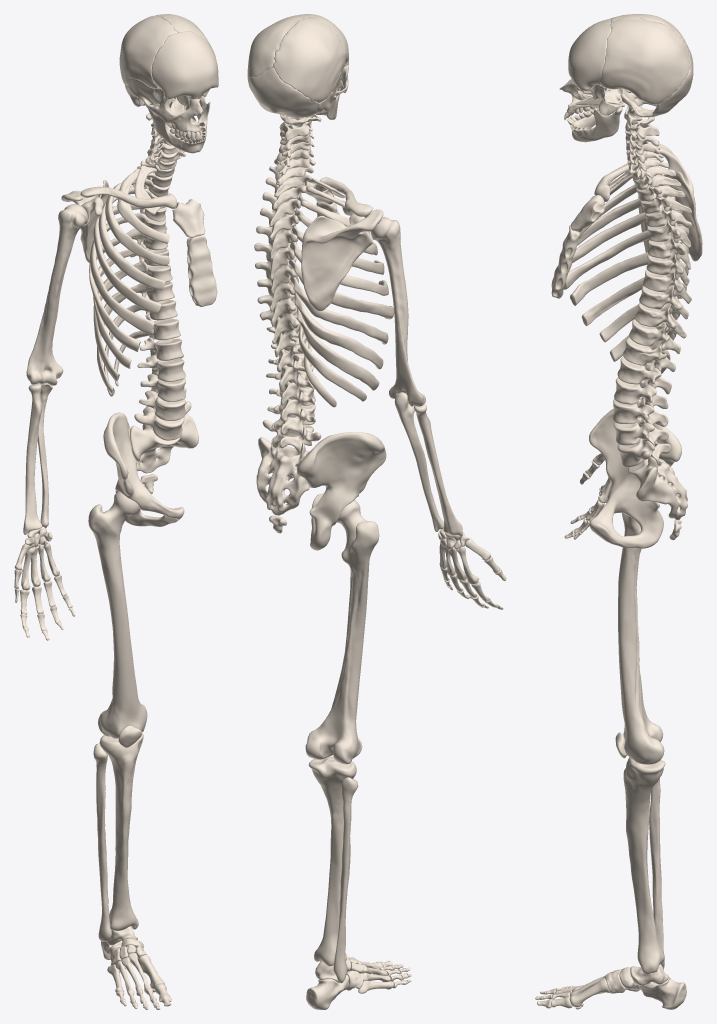
The model's file is aligned-overview-skeleton-skeletal-01.glb.
3 views of the same model, side by side, from view 1: azimuth 30°, elevation 25°; view 2: azimuth 150°, elevation 25°; view 3: azimuth 270°, elevation 25° (orthographic). The views are drawn at different scales.
Visible parts, largest first — view 1: O3D_05ffaf48937967, O3D_cbe1e286dd60a5, O3D_03496e367dfd52, O3D_51d578370516da, O3D_0432208a152acf, O3D_d66302d3a3b732, O3D_5f8fe434da9608, O3D_4bcfe480dc5d8f, O3D_d711e4637ff760, O3D_0c3cd158a448ab, O3D_84d581d0704dc3, O3D_8e3a0b2cf52b6d (+22 smaller); view 2: O3D_05ffaf48937967, O3D_0432208a152acf, O3D_0b76a292ebe35b, O3D_d66302d3a3b732, O3D_cbe1e286dd60a5, O3D_51d578370516da, O3D_5f8fe434da9608, O3D_a9d6b1ae6c89a4, O3D_4bcfe480dc5d8f, O3D_f348809013aab8, O3D_aadce953e665bf, O3D_0c3cd158a448ab (+15 smaller); view 3: O3D_f348809013aab8, O3D_05ffaf48937967, O3D_0432208a152acf, O3D_cbe1e286dd60a5, O3D_5f8fe434da9608, O3D_03496e367dfd52, O3D_4bcfe480dc5d8f, O3D_0b76a292ebe35b, O3D_f9836cf019429e, O3D_a9d6b1ae6c89a4, O3D_1056282f5791ed, O3D_a194fbb98385e2 (+29 smaller).
Part boxes in pixels (x1,y1,x2,y2): O3D_05ffaf48937967: (88,491,147,738); O3D_cbe1e286dd60a5: (99,733,143,930); O3D_03496e367dfd52: (151,31,218,99); O3D_51d578370516da: (26,204,87,385); O3D_0432208a152acf: (103,412,184,526); O3D_d66302d3a3b732: (119,15,177,88); O3D_5f8fe434da9608: (130,413,198,473); O3D_4bcfe480dc5d8f: (93,743,111,941); O3D_d711e4637ff760: (186,235,217,306); O3D_0c3cd158a448ab: (23,383,42,534); O3D_84d581d0704dc3: (90,213,154,334); O3D_8e3a0b2cf52b6d: (98,186,165,290); O3D_05ffaf48937967: (305,500,379,764); O3D_0432208a152acf: (297,432,386,550); O3D_0b76a292ebe35b: (301,209,383,311); O3D_d66302d3a3b732: (273,17,346,102); O3D_cbe1e286dd60a5: (308,756,356,966); O3D_51d578370516da: (370,217,425,406); O3D_5f8fe434da9608: (256,437,309,515); O3D_a9d6b1ae6c89a4: (248,67,318,117); O3D_4bcfe480dc5d8f: (333,777,358,983); O3D_f348809013aab8: (247,15,309,81); O3D_aadce953e665bf: (394,392,443,531); O3D_0c3cd158a448ab: (414,403,462,535); O3D_f348809013aab8: (599,18,690,104); O3D_05ffaf48937967: (618,513,664,764); O3D_0432208a152acf: (589,407,681,548); O3D_cbe1e286dd60a5: (623,757,665,974); O3D_5f8fe434da9608: (628,441,687,520); O3D_03496e367dfd52: (568,18,611,90); O3D_4bcfe480dc5d8f: (649,778,664,969); O3D_0b76a292ebe35b: (650,143,702,261); O3D_f9836cf019429e: (570,105,622,142); O3D_a9d6b1ae6c89a4: (620,48,693,117); O3D_1056282f5791ed: (570,242,688,305); O3D_a194fbb98385e2: (617,356,671,394).
Bounding box in the file's own units: 0.4097 × 1.7 × 0.2542.
